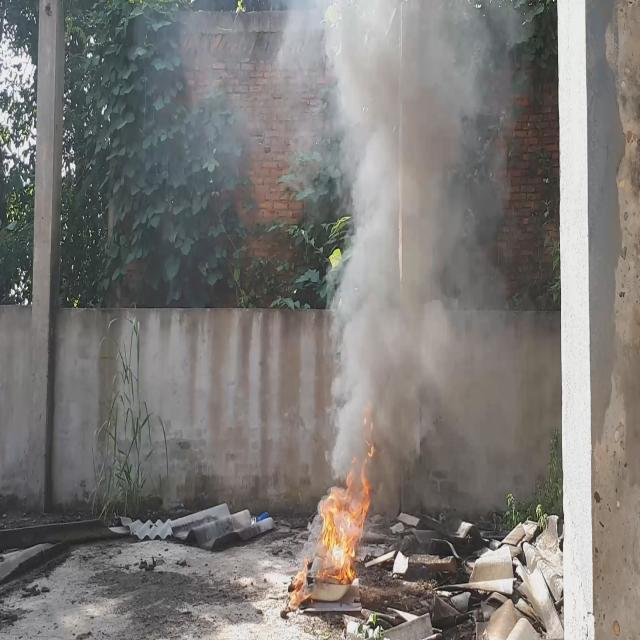Fire: (314, 459, 374, 578)
Smoke: (276, 0, 520, 505)
